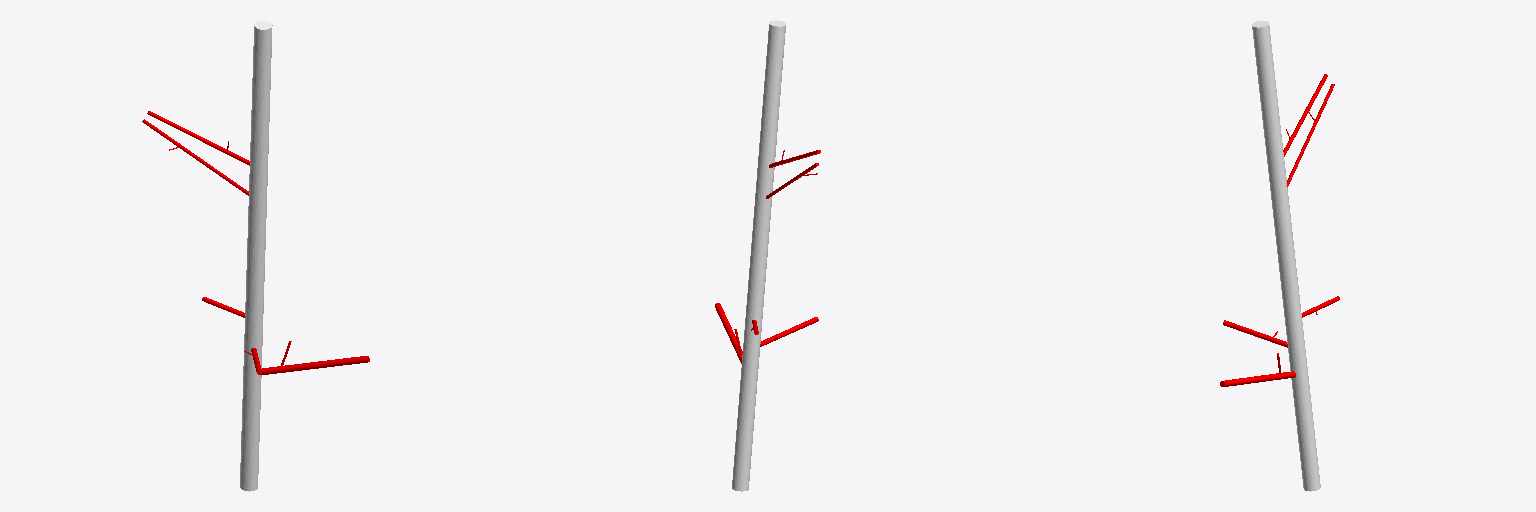
robot.urdf — tree_93.urdf:
<?xml version='1.0' encoding='UTF-8'?>
<robot name="tree_93.urdf">
  <link name="branch_0">
    <inertial>
      <origin xyz="0.0 0.0 0.0" rpy="0.0 -0.0 0.0"/>
      <mass value="0.1"/>
      <inertia ixx="0.001" ixy="0.0" ixz="0.0" iyy="0.001" iyz="0.0" izz="0.001"/>
    </inertial>
    <visual name="branch_0_visual">
      <geometry>
        <cylinder radius="0.14772529190286504" length="8.633815134930774"/>
      </geometry>
      <material name="branch_material"/>
      <origin xyz="-0.1197897250807727 -0.43870942568571114 4.292886605492802" rpy="6.938893903907228e-18 0.10554202159800823 -1.8373489828546303"/>
    </visual>
    <collision name="branch_0_collision">
      <geometry>
        <cylinder radius="0.14772529190286504" length="8.633815134930774"/>
      </geometry>
      <origin xyz="-0.1197897250807727 -0.43870942568571114 4.292886605492802" rpy="6.938893903907228e-18 0.10554202159800823 -1.8373489828546303"/>
    </collision>
  </link>
  <link name="branch_1">
    <inertial>
      <origin xyz="0.0 0.0 0.0" rpy="0.0 -0.0 0.0"/>
      <mass value="0.1"/>
      <inertia ixx="0.001" ixy="0.0" ixz="0.0" iyy="0.001" iyz="0.0" izz="0.001"/>
    </inertial>
    <visual name="branch_1_visual">
      <geometry>
        <cylinder radius="0.045240480420315116" length="1.3861055237191704"/>
      </geometry>
      <material name="semantic_material"/>
      <origin xyz="0.0 0.0 0.0" rpy="0.0 -0.0 0.0"/>
    </visual>
    <collision name="branch_1_collision">
      <geometry>
        <cylinder radius="0.045240480420315116" length="1.3861055237191704"/>
      </geometry>
      <origin xyz="0.0 0.0 0.0" rpy="0.0 -0.0 0.0"/>
    </collision>
  </link>
  <link name="branch_2">
    <inertial>
      <origin xyz="0.0 0.0 0.0" rpy="0.0 -0.0 0.0"/>
      <mass value="0.1"/>
      <inertia ixx="0.001" ixy="0.0" ixz="0.0" iyy="0.001" iyz="0.0" izz="0.001"/>
    </inertial>
    <visual name="branch_2_visual">
      <geometry>
        <cylinder radius="0.013308916693456121" length="0.1935286427519754"/>
      </geometry>
      <material name="semantic_material"/>
      <origin xyz="0.0 0.0 0.0" rpy="0.0 -0.0 0.0"/>
    </visual>
    <collision name="branch_2_collision">
      <geometry>
        <cylinder radius="0.013308916693456121" length="0.1935286427519754"/>
      </geometry>
      <origin xyz="0.0 0.0 0.0" rpy="0.0 -0.0 0.0"/>
    </collision>
  </link>
  <link name="branch_3">
    <inertial>
      <origin xyz="0.0 0.0 0.0" rpy="0.0 -0.0 0.0"/>
      <mass value="0.1"/>
      <inertia ixx="0.001" ixy="0.0" ixz="0.0" iyy="0.001" iyz="0.0" izz="0.001"/>
    </inertial>
    <visual name="branch_3_visual">
      <geometry>
        <cylinder radius="0.03011731018302353" length="2.3228793982482645"/>
      </geometry>
      <material name="semantic_material"/>
      <origin xyz="0.0 0.0 0.0" rpy="0.0 -0.0 0.0"/>
    </visual>
    <collision name="branch_3_collision">
      <geometry>
        <cylinder radius="0.03011731018302353" length="2.3228793982482645"/>
      </geometry>
      <origin xyz="0.0 0.0 0.0" rpy="0.0 -0.0 0.0"/>
    </collision>
  </link>
  <link name="branch_4">
    <inertial>
      <origin xyz="0.0 0.0 0.0" rpy="0.0 -0.0 0.0"/>
      <mass value="0.1"/>
      <inertia ixx="0.001" ixy="0.0" ixz="0.0" iyy="0.001" iyz="0.0" izz="0.001"/>
    </inertial>
    <visual name="branch_4_visual">
      <geometry>
        <cylinder radius="0.01" length="0.31945645837064135"/>
      </geometry>
      <material name="semantic_material"/>
      <origin xyz="0.0 0.0 0.0" rpy="0.0 -0.0 0.0"/>
    </visual>
    <collision name="branch_4_collision">
      <geometry>
        <cylinder radius="0.01" length="0.31945645837064135"/>
      </geometry>
      <origin xyz="0.0 0.0 0.0" rpy="0.0 -0.0 0.0"/>
    </collision>
  </link>
  <link name="branch_5">
    <inertial>
      <origin xyz="0.0 0.0 0.0" rpy="0.0 -0.0 0.0"/>
      <mass value="0.1"/>
      <inertia ixx="0.001" ixy="0.0" ixz="0.0" iyy="0.001" iyz="0.0" izz="0.001"/>
    </inertial>
    <visual name="branch_5_visual">
      <geometry>
        <cylinder radius="0.05619878209709917" length="1.9691307621853948"/>
      </geometry>
      <material name="semantic_material"/>
      <origin xyz="0.0 0.0 0.0" rpy="0.0 -0.0 0.0"/>
    </visual>
    <collision name="branch_5_collision">
      <geometry>
        <cylinder radius="0.05619878209709917" length="1.9691307621853948"/>
      </geometry>
      <origin xyz="0.0 0.0 0.0" rpy="0.0 -0.0 0.0"/>
    </collision>
  </link>
  <link name="branch_6">
    <inertial>
      <origin xyz="0.0 0.0 0.0" rpy="0.0 -0.0 0.0"/>
      <mass value="0.1"/>
      <inertia ixx="0.001" ixy="0.0" ixz="0.0" iyy="0.001" iyz="0.0" izz="0.001"/>
    </inertial>
    <visual name="branch_6_visual">
      <geometry>
        <cylinder radius="0.02032398378018668" length="0.5097193608703448"/>
      </geometry>
      <material name="semantic_material"/>
      <origin xyz="0.0 0.0 0.0" rpy="0.0 -0.0 0.0"/>
    </visual>
    <collision name="branch_6_collision">
      <geometry>
        <cylinder radius="0.02032398378018668" length="0.5097193608703448"/>
      </geometry>
      <origin xyz="0.0 0.0 0.0" rpy="0.0 -0.0 0.0"/>
    </collision>
  </link>
  <link name="branch_7">
    <inertial>
      <origin xyz="0.0 0.0 0.0" rpy="0.0 -0.0 0.0"/>
      <mass value="0.1"/>
      <inertia ixx="0.001" ixy="0.0" ixz="0.0" iyy="0.001" iyz="0.0" izz="0.001"/>
    </inertial>
    <visual name="branch_7_visual">
      <geometry>
        <cylinder radius="0.040026578874785765" length="0.9330471003686186"/>
      </geometry>
      <material name="semantic_material"/>
      <origin xyz="0.0 0.0 0.0" rpy="0.0 -0.0 0.0"/>
    </visual>
    <collision name="branch_7_collision">
      <geometry>
        <cylinder radius="0.040026578874785765" length="0.9330471003686186"/>
      </geometry>
      <origin xyz="0.0 0.0 0.0" rpy="0.0 -0.0 0.0"/>
    </collision>
  </link>
  <link name="branch_8">
    <inertial>
      <origin xyz="0.0 0.0 0.0" rpy="0.0 -0.0 0.0"/>
      <mass value="0.1"/>
      <inertia ixx="0.001" ixy="0.0" ixz="0.0" iyy="0.001" iyz="0.0" izz="0.001"/>
    </inertial>
    <visual name="branch_8_visual">
      <geometry>
        <cylinder radius="0.011149313652507337" length="0.10335657360364389"/>
      </geometry>
      <material name="semantic_material"/>
      <origin xyz="0.0 0.0 0.0" rpy="0.0 -0.0 0.0"/>
    </visual>
    <collision name="branch_8_collision">
      <geometry>
        <cylinder radius="0.011149313652507337" length="0.10335657360364389"/>
      </geometry>
      <origin xyz="0.0 0.0 0.0" rpy="0.0 -0.0 0.0"/>
    </collision>
  </link>
  <link name="branch_9">
    <inertial>
      <origin xyz="0.0 0.0 0.0" rpy="0.0 -0.0 0.0"/>
      <mass value="0.1"/>
      <inertia ixx="0.001" ixy="0.0" ixz="0.0" iyy="0.001" iyz="0.0" izz="0.001"/>
    </inertial>
    <visual name="branch_9_visual">
      <geometry>
        <cylinder radius="0.03486540785857402" length="2.0386205523295886"/>
      </geometry>
      <material name="semantic_material"/>
      <origin xyz="0.0 0.0 0.0" rpy="0.0 -0.0 0.0"/>
    </visual>
    <collision name="branch_9_collision">
      <geometry>
        <cylinder radius="0.03486540785857402" length="2.0386205523295886"/>
      </geometry>
      <origin xyz="0.0 0.0 0.0" rpy="0.0 -0.0 0.0"/>
    </collision>
  </link>
  <link name="branch_10">
    <inertial>
      <origin xyz="0.0 0.0 0.0" rpy="0.0 -0.0 0.0"/>
      <mass value="0.1"/>
      <inertia ixx="0.001" ixy="0.0" ixz="0.0" iyy="0.001" iyz="0.0" izz="0.001"/>
    </inertial>
    <visual name="branch_10_visual">
      <geometry>
        <cylinder radius="0.01" length="0.22886931859229595"/>
      </geometry>
      <material name="semantic_material"/>
      <origin xyz="0.0 0.0 0.0" rpy="0.0 -0.0 0.0"/>
    </visual>
    <collision name="branch_10_collision">
      <geometry>
        <cylinder radius="0.01" length="0.22886931859229595"/>
      </geometry>
      <origin xyz="0.0 0.0 0.0" rpy="0.0 -0.0 0.0"/>
    </collision>
  </link>
  <joint name="joint_0_1" type="fixed">
    <parent link="branch_0"/>
    <child link="branch_1"/>
    <axis xyz="1. 0. 0."/>
    <origin xyz="-0.3715252843744662 -0.8813145465404372 2.6869078139382583" rpy="-0.1360167660439169 1.4242363729743952 -2.1599945920220387"/>
  </joint>
  <joint name="joint_0_3" type="fixed">
    <parent link="branch_0"/>
    <child link="branch_3"/>
    <axis xyz="1. 0. 0."/>
    <origin xyz="-0.9492646914998562 -0.09282921930706432 6.0391477445577095" rpy="-0.1620022257001162 0.9029195336896161 2.4225709511874283"/>
  </joint>
  <joint name="joint_0_5" type="fixed">
    <parent link="branch_0"/>
    <child link="branch_5"/>
    <axis xyz="1. 0. 0."/>
    <origin xyz="0.639159308507494 -0.8723376957060245 2.3433703458752353" rpy="0.3882772843914725 1.319197255560942 -0.3546496752656464"/>
  </joint>
  <joint name="joint_0_7" type="fixed">
    <parent link="branch_0"/>
    <child link="branch_7"/>
    <axis xyz="1. 0. 0."/>
    <origin xyz="-0.3360873843735085 0.06689080434928843 3.201650898207807" rpy="-0.40999735330099996 1.3747416166028936 1.727237315719956"/>
  </joint>
  <joint name="joint_0_9" type="fixed">
    <parent link="branch_0"/>
    <child link="branch_9"/>
    <axis xyz="1. 0. 0."/>
    <origin xyz="-0.9451040383327206 -0.18366622346467162 6.434006751778649" rpy="-0.2021109504057665 1.0432069037387817 2.412120408926342"/>
  </joint>
  <joint name="joint_1_2" type="fixed">
    <parent link="branch_0"/>
    <child link="branch_2"/>
    <axis xyz="1. 0. 0."/>
    <origin xyz="-0.34849529736647245 -0.6370339690375013 2.6961710003673303" rpy="-1.1346259606521936 0.20593971055281624 0.9907039030612735"/>
  </joint>
  <joint name="joint_3_4" type="fixed">
    <parent link="branch_0"/>
    <child link="branch_4"/>
    <axis xyz="1. 0. 0."/>
    <origin xyz="-1.36771297004651 7.883667482595266e-05 6.310923939214337" rpy="1.3379246434620646 0.6724691456087408 -1.3138280214622464"/>
  </joint>
  <joint name="joint_5_6" type="fixed">
    <parent link="branch_0"/>
    <child link="branch_6"/>
    <axis xyz="1. 0. 0."/>
    <origin xyz="0.3562437387784297 -0.5587072887697673 2.4684413595898778" rpy="0.15992087440135214 -0.27899194973726893 2.3062479880532853"/>
  </joint>
  <joint name="joint_7_8" type="fixed">
    <parent link="branch_0"/>
    <child link="branch_8"/>
    <axis xyz="1. 0. 0."/>
    <origin xyz="-0.2982384687050426 0.06771587069315797 3.1583062415929777" rpy="-2.464993405913696 0.026647000323827844 -1.122099008727529"/>
  </joint>
  <joint name="joint_9_10" type="fixed">
    <parent link="branch_0"/>
    <child link="branch_10"/>
    <axis xyz="1. 0. 0."/>
    <origin xyz="-0.6185186832213801 -0.4016377179004195 6.327792330804583" rpy="0.30241256677446443 0.16488994560778472 -0.6205995969608832"/>
  </joint>
  <material name="branch_material">
    <color rgba="1. 1. 1. 1."/>
  </material>
  <material name="semantic_material">
    <color rgba="1. 0. 0. 1."/>
  </material>
</robot>

--- Render facts (derived) ---
3 views of the same robot in one strip: view 1: azimuth 30°, elevation 25°; view 2: azimuth 150°, elevation 25°; view 3: azimuth 270°, elevation 25° (orthographic).
Model tree_93.urdf with 11 links and 10 joints (10 fixed), rooted at branch_0, posed all joints at 0.
Links seen in each view (by area): view 1: branch_0, branch_5; view 2: branch_0; view 3: branch_0.
Boxes of the visible links, <box> form: branch_0: <box>240,20,272,491</box>; branch_5: <box>261,356,369,374</box>; branch_0: <box>732,20,785,491</box>; branch_0: <box>1252,20,1320,491</box>.
Bounding box of the posed robot: 3.15 × 2.05 × 8.62 m (x, y, z).
Geometry: primitives only (box / cylinder / sphere), no mesh files.